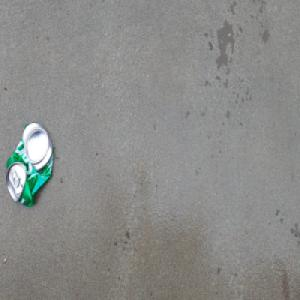SodaCan: (4, 119, 54, 210)
